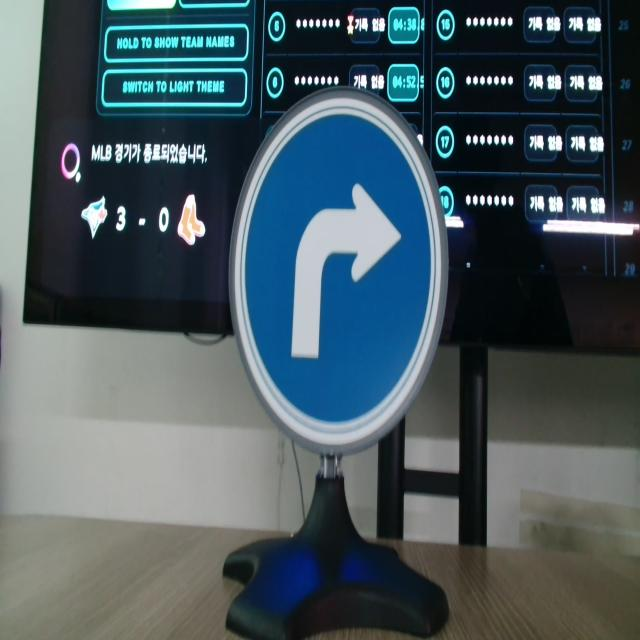right_dierection: (224, 83, 446, 458)
